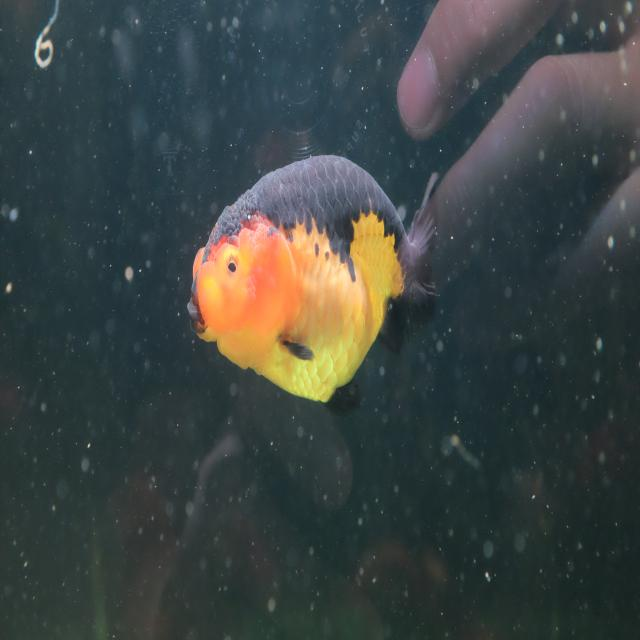Tilapia: (186, 152, 440, 418)
